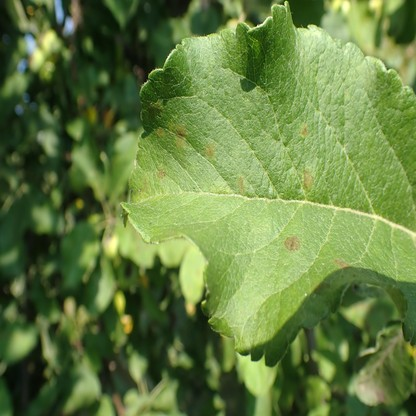scab: (283, 236, 301, 251), (302, 168, 314, 190), (175, 124, 186, 147), (313, 281, 330, 294), (204, 144, 216, 161), (235, 174, 245, 194), (334, 258, 350, 270), (298, 123, 309, 138), (155, 168, 167, 180), (152, 103, 163, 114), (156, 127, 166, 138), (143, 177, 148, 190)
